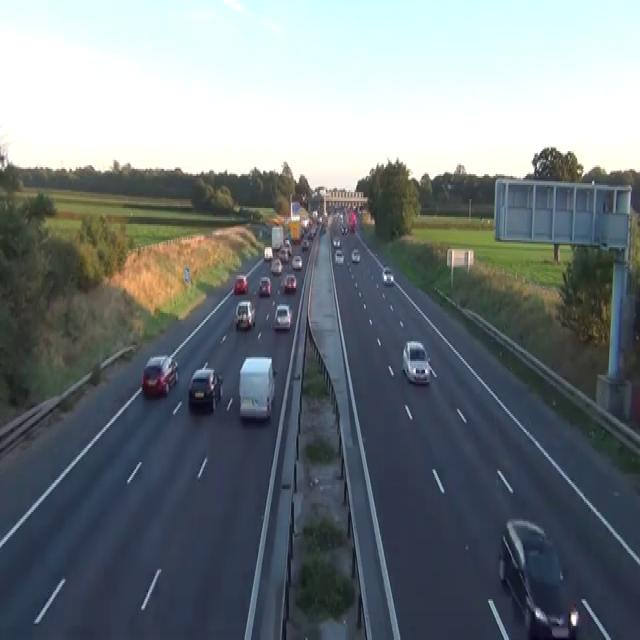Car: (498, 518, 579, 638), (188, 361, 223, 412), (142, 354, 178, 398), (402, 340, 430, 384), (235, 299, 255, 329), (272, 304, 292, 329), (233, 274, 248, 293), (283, 274, 297, 292), (258, 276, 271, 295), (382, 266, 393, 284), (270, 258, 282, 274), (291, 254, 302, 268), (334, 249, 344, 263), (263, 246, 273, 260), (278, 247, 288, 261), (284, 238, 292, 254), (351, 247, 360, 261), (301, 217, 311, 229), (307, 226, 316, 238), (332, 235, 340, 247), (340, 222, 347, 235), (301, 238, 309, 249), (284, 237, 291, 247), (349, 222, 355, 231), (316, 215, 323, 222), (321, 224, 326, 233)
Truck: (238, 356, 275, 420), (271, 224, 283, 249)
